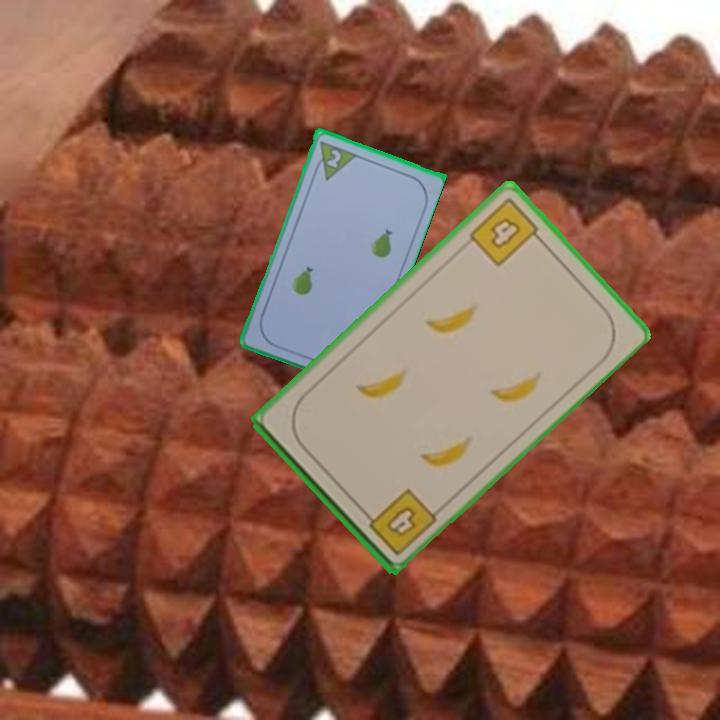2p: (322, 145, 344, 170)
4b: (465, 193, 547, 269), (358, 484, 440, 558)
